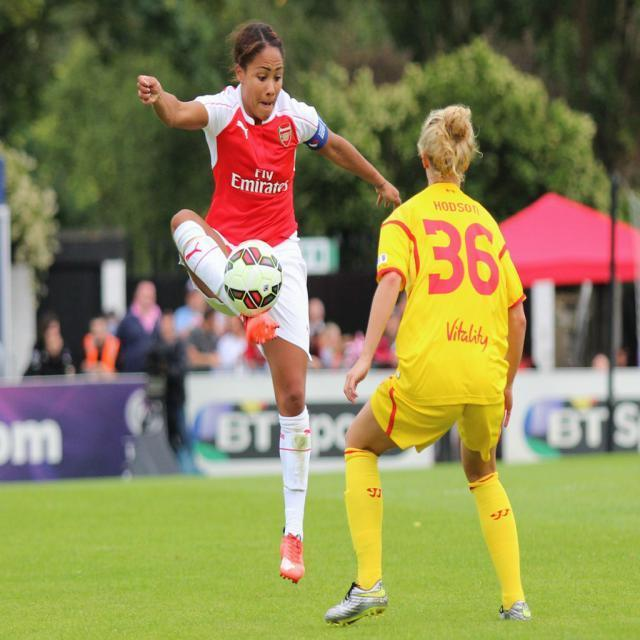football: (212, 231, 290, 332)
